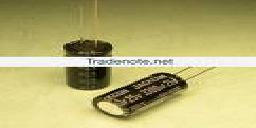Electrolytic-capacitor: (91, 69, 198, 118)
